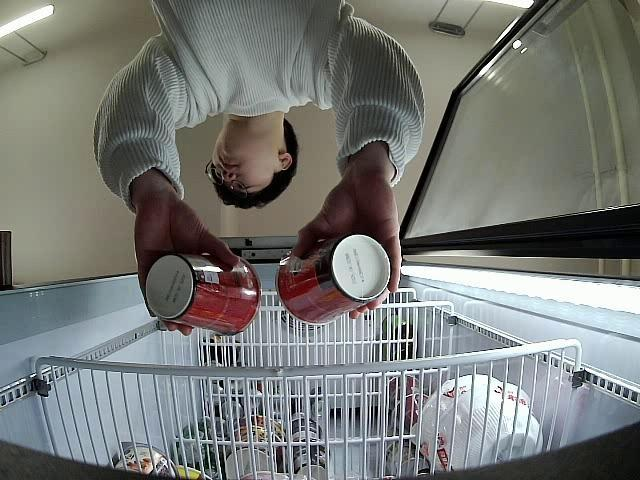02_shinRamen_S: (143, 246, 259, 336), (275, 236, 390, 326)
